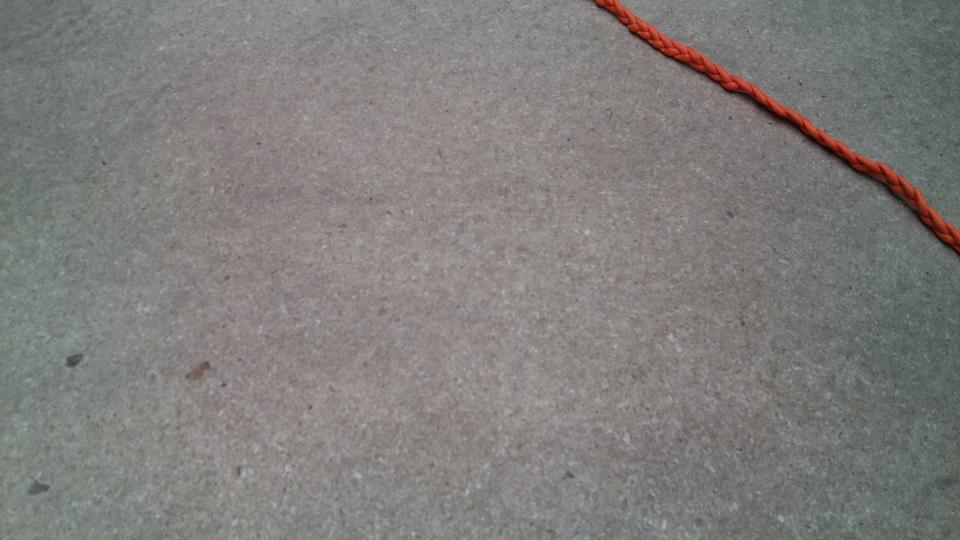rope: (610, 1, 960, 233)
